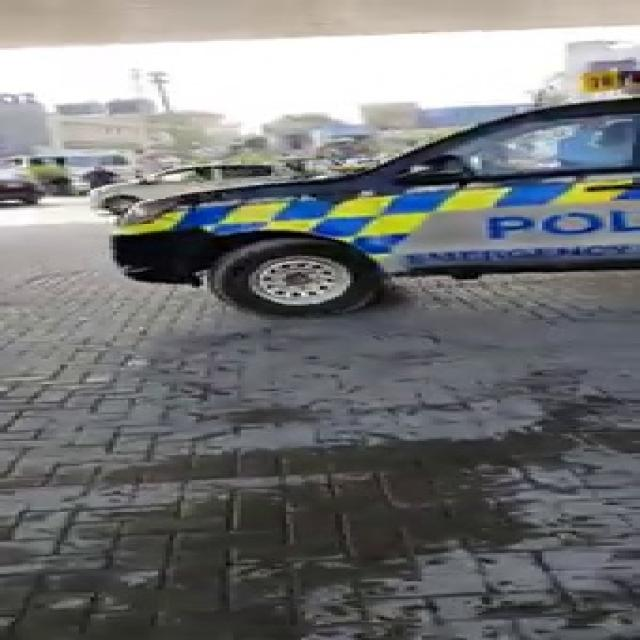police: (81, 85, 640, 318)
